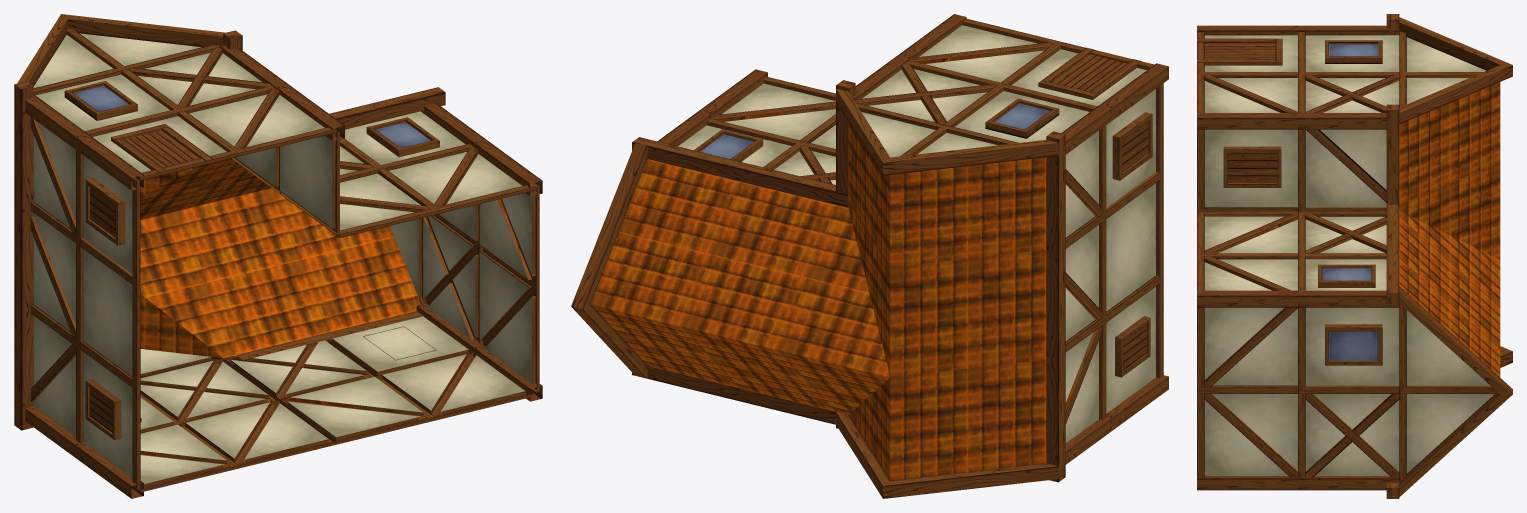
The model's file is Medieval_House_02.fbx.
3 renders of one model, left to right at view 1: azimuth 30°, elevation 25°; view 2: azimuth 150°, elevation 25°; view 3: azimuth 270°, elevation 25°, orthographic. The views are drawn at different scales.
Parts seen in each view (by area): view 1: Medieval_House_02; view 2: Medieval_House_02; view 3: Medieval_House_02.
Part boxes in pixels (box(x1,y1,x2,y2)): Medieval_House_02: box(14, 14, 542, 498); Medieval_House_02: box(571, 14, 1168, 498); Medieval_House_02: box(1197, 14, 1512, 498).
Bounding box in the file's own units: 1099 × 844 × 796.
